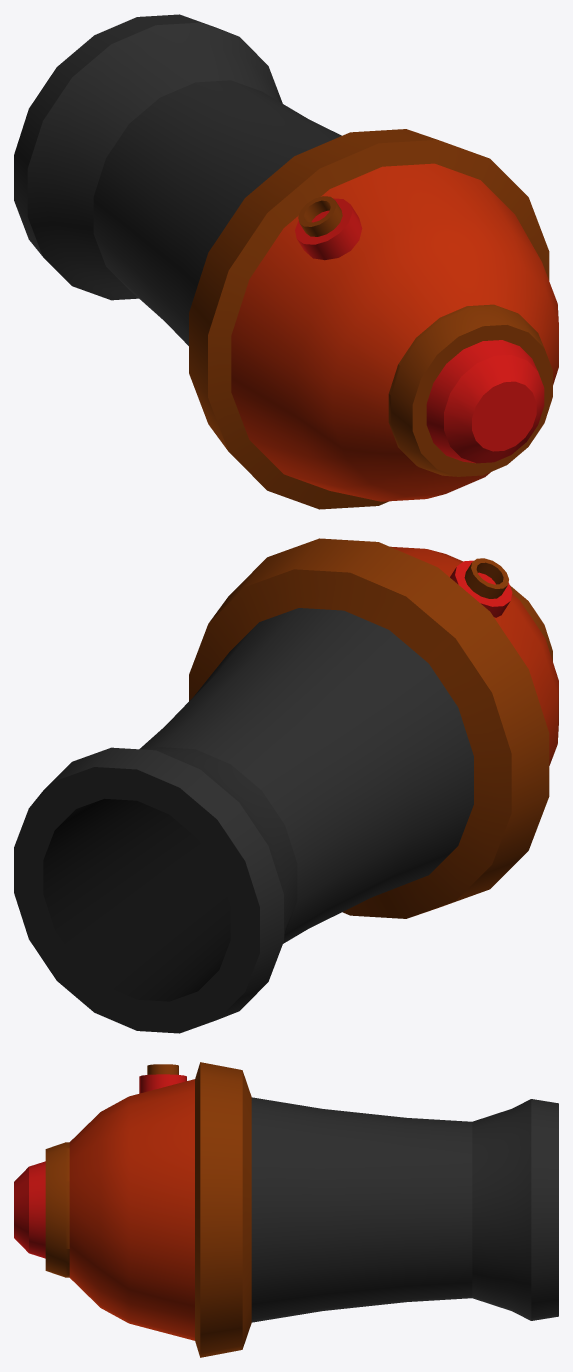
File: Cannon.obj
3 renders of one model, top to bottom at view 1: azimuth 30°, elevation 25°; view 2: azimuth 150°, elevation 25°; view 3: azimuth 270°, elevation 25°, orthographic. The views are drawn at different scales.
Visible parts, largest first — view 1: Cylinder, Cylinder.001, Cylinder.002; view 2: Cylinder, Cylinder.002, Cylinder.001; view 3: Cylinder, Cylinder.001.
Part boxes in pixels (box(x1,y1,x2,y2)): Cylinder: box(14, 14, 558, 509); Cylinder.001: box(295, 198, 362, 260); Cylinder.002: box(298, 196, 342, 236); Cylinder: box(14, 538, 558, 1033); Cylinder.002: box(464, 558, 508, 598); Cylinder.001: box(450, 560, 512, 617); Cylinder: box(14, 1062, 558, 1357); Cylinder.001: box(139, 1074, 186, 1093).
Size of the model in its own units: 3.15 by 3.2 by 5.88.
